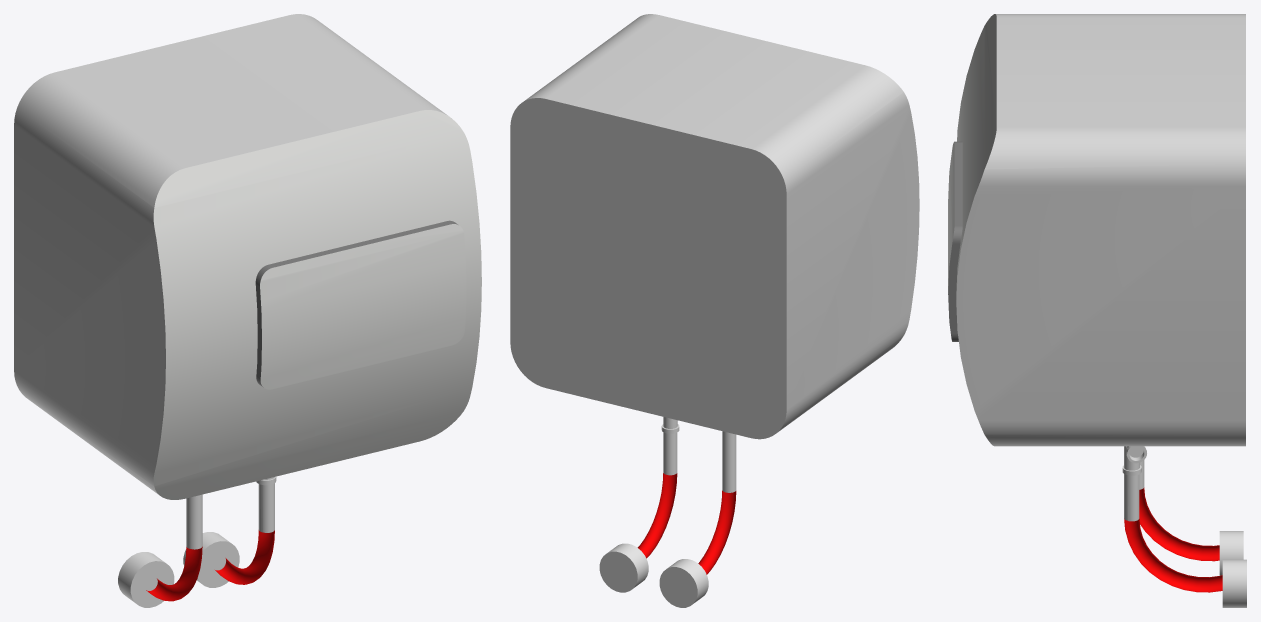
File: Geyser.glb
3 renders of one model, left to right at view 1: azimuth 30°, elevation 25°; view 2: azimuth 150°, elevation 25°; view 3: azimuth 270°, elevation 25°, orthographic. The views are drawn at different scales.
Visible parts, largest first — view 1: Mesh9 Group4 Group2 Model, Mesh8 Group3 Group2 Model, Mesh7 Group1 Model, Mesh6 Group1 Model, Mesh2 Group1 Model, Mesh5 Group1 Model; view 2: Mesh9 Group4 Group2 Model, Mesh2 Group1 Model, Mesh7 Group1 Model, Mesh5 Group1 Model, Mesh6 Group1 Model; view 3: Mesh9 Group4 Group2 Model, Mesh7 Group1 Model, Mesh8 Group3 Group2 Model, Mesh2 Group1 Model, Mesh5 Group1 Model, Mesh6 Group1 Model.
Part boxes in pixels (left/top/right/bottom): Mesh9 Group4 Group2 Model: left=14, top=14, right=481, bottom=499; Mesh8 Group3 Group2 Model: left=255, top=220, right=466, bottom=389; Mesh7 Group1 Model: left=215, top=477, right=274, bottom=584; Mesh6 Group1 Model: left=118, top=552, right=174, bottom=607; Mesh2 Group1 Model: left=146, top=494, right=202, bottom=601; Mesh5 Group1 Model: left=183, top=532, right=239, bottom=587; Mesh9 Group4 Group2 Model: left=510, top=14, right=919, bottom=439; Mesh2 Group1 Model: left=698, top=431, right=736, bottom=574; Mesh7 Group1 Model: left=637, top=417, right=677, bottom=558; Mesh5 Group1 Model: left=599, top=543, right=648, bottom=592; Mesh6 Group1 Model: left=659, top=559, right=708, bottom=607; Mesh9 Group4 Group2 Model: left=956, top=14, right=1245, bottom=446; Mesh7 Group1 Model: left=1124, top=446, right=1222, bottom=592; Mesh8 Group3 Group2 Model: left=948, top=141, right=962, bottom=341; Mesh2 Group1 Model: left=1139, top=460, right=1219, bottom=561; Mesh5 Group1 Model: left=1222, top=559, right=1246, bottom=607; Mesh6 Group1 Model: left=1219, top=531, right=1243, bottom=575.
Bounding box in the file's own units: 360 × 594 × 309.
